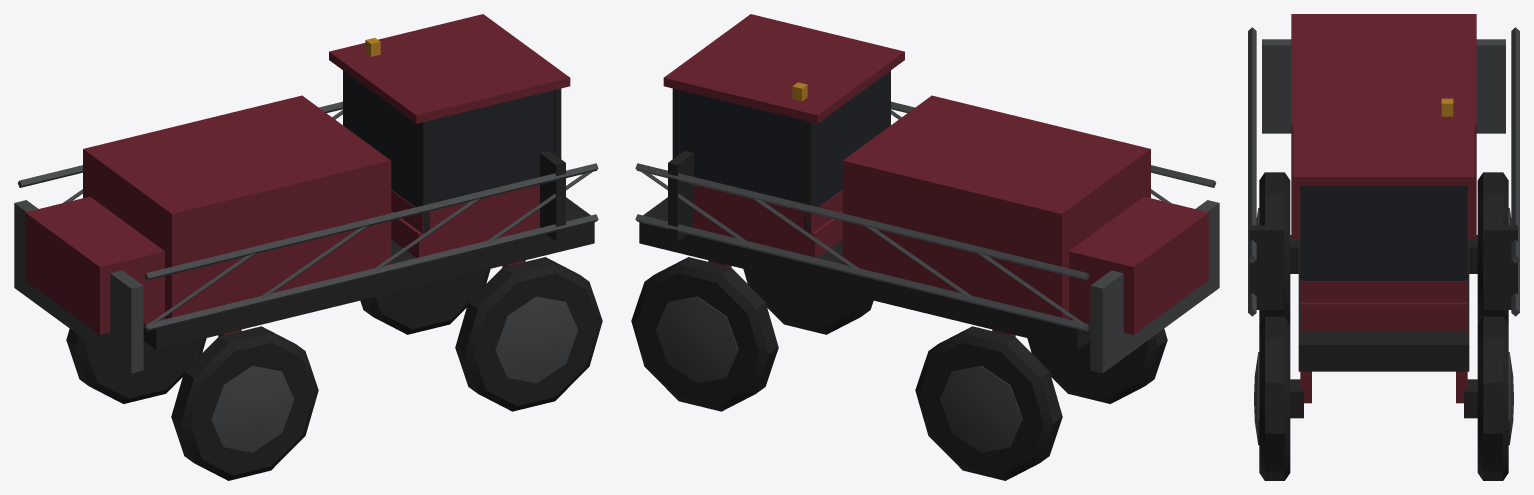
The model's file is SM_Prop_farm_sprayer_1_LOD1.glb.
3 views of the same model, side by side, from view 1: azimuth 30°, elevation 25°; view 2: azimuth 150°, elevation 25°; view 3: azimuth 270°, elevation 25° (orthographic). The views are drawn at different scales.
Parts seen in each view (by area): view 1: SM_Prop_farm_sprayer_1_LOD1; view 2: SM_Prop_farm_sprayer_1_LOD1; view 3: SM_Prop_farm_sprayer_1_LOD1.
Boxes of the visible parts, <box> form: SM_Prop_farm_sprayer_1_LOD1: <box>14,14,602,480</box>; SM_Prop_farm_sprayer_1_LOD1: <box>631,14,1219,480</box>; SM_Prop_farm_sprayer_1_LOD1: <box>1248,14,1519,480</box>.
Size of the model in its own units: 6.05 by 3.76 by 2.79.
